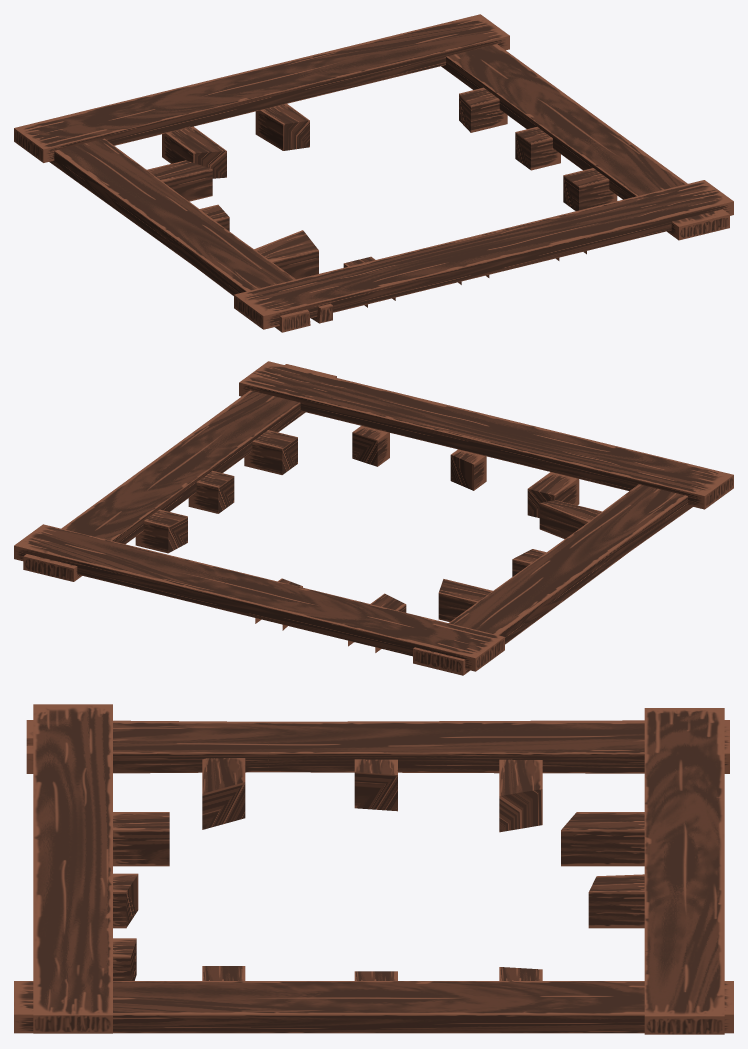
File: Wood_floor_hole_4_damaged_2.fbx
3 views of the same model, one above another, from view 1: azimuth 30°, elevation 25°; view 2: azimuth 150°, elevation 25°; view 3: azimuth 270°, elevation 25° (orthographic). The views are drawn at different scales.
Parts seen in each view (by area): view 1: Wood_floor_hole_4_damaged_2; view 2: Wood_floor_hole_4_damaged_2; view 3: Wood_floor_hole_4_damaged_2.
Boxes of the visible parts, x1,y1,x2,y2 form: Wood_floor_hole_4_damaged_2: [14, 14, 733, 332]; Wood_floor_hole_4_damaged_2: [14, 361, 733, 675]; Wood_floor_hole_4_damaged_2: [14, 704, 733, 1034].
Bounding box in the file's own units: 2.18 × 0.1882 × 2.12.
